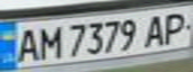3: (84, 19, 106, 56)
7: (63, 20, 87, 57), (100, 17, 124, 53)
9: (118, 16, 142, 52)
A: (9, 25, 42, 63), (139, 11, 172, 47)
M: (33, 22, 66, 60)
P: (157, 9, 193, 45)
